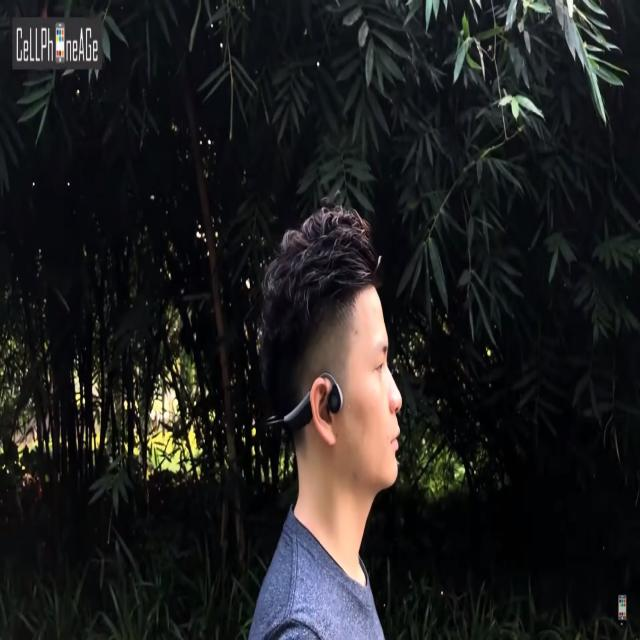Neckband: (267, 372, 343, 433)
